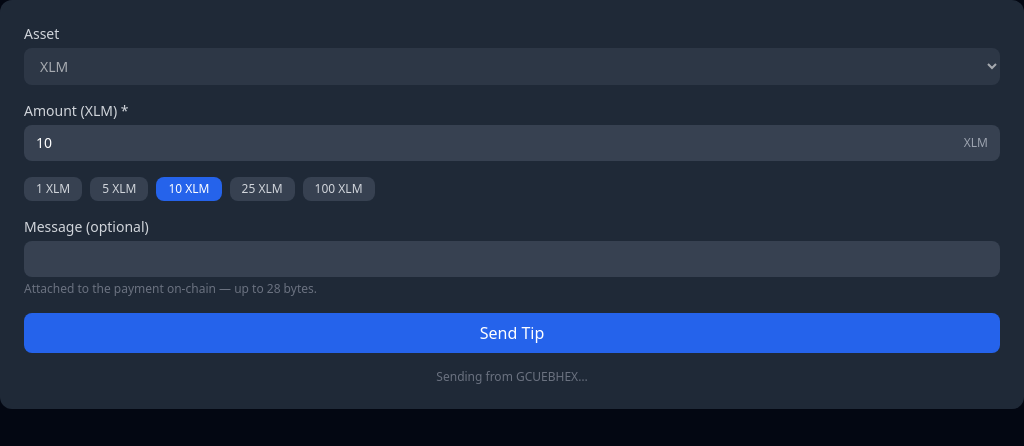
Test: TipForm — validation › blocks submission on an invalid amount
The width and height of the screenshot is (1024, 446).
Replace the text in the number field labelled "Amount (XLM) *" with "-5" at (512, 143), box left=24, top=125, right=1000, bottom=161
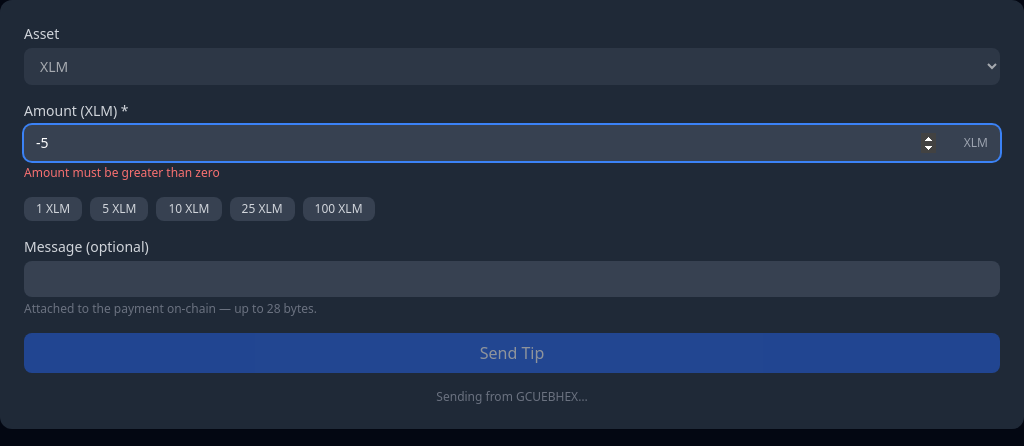
Result: the button "Send Tip" is disabled at left=24, top=333, right=1000, bottom=373
